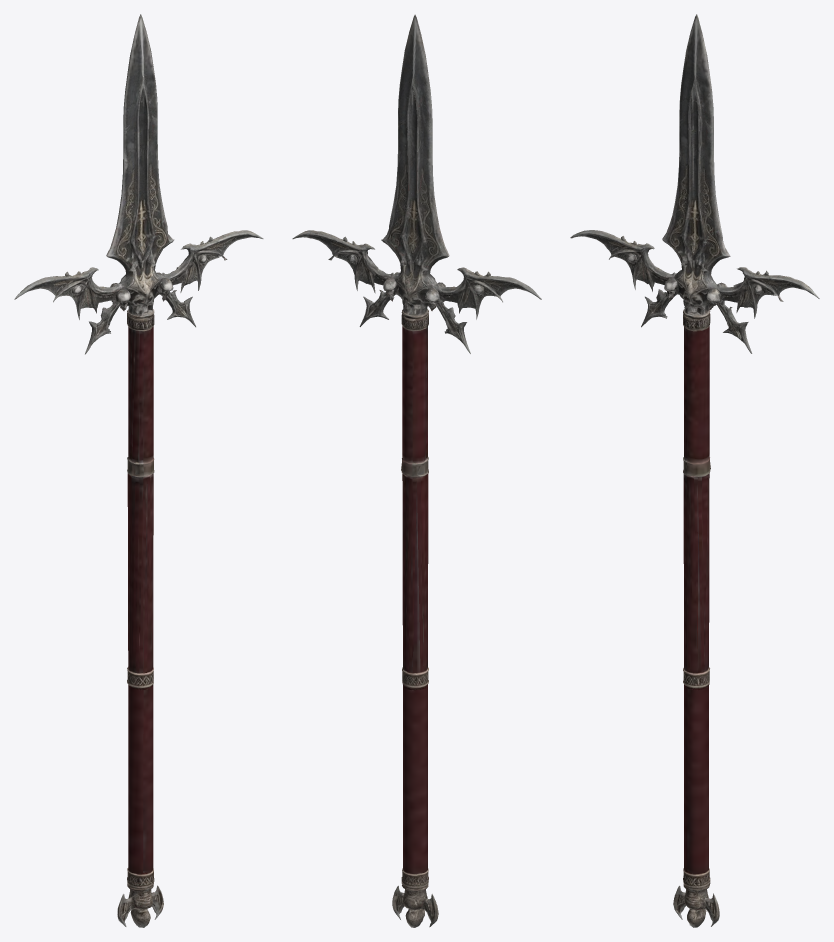
Rendered from spear-winged.glb.
3 renders of one model, left to right at view 1: azimuth 30°, elevation 25°; view 2: azimuth 150°, elevation 25°; view 3: azimuth 330°, elevation 25°, orthographic.
Bounding box in the file's own units: 0.2715 × 0.9497 × 0.0288.
Materials: 1 (1 with a texture image).
